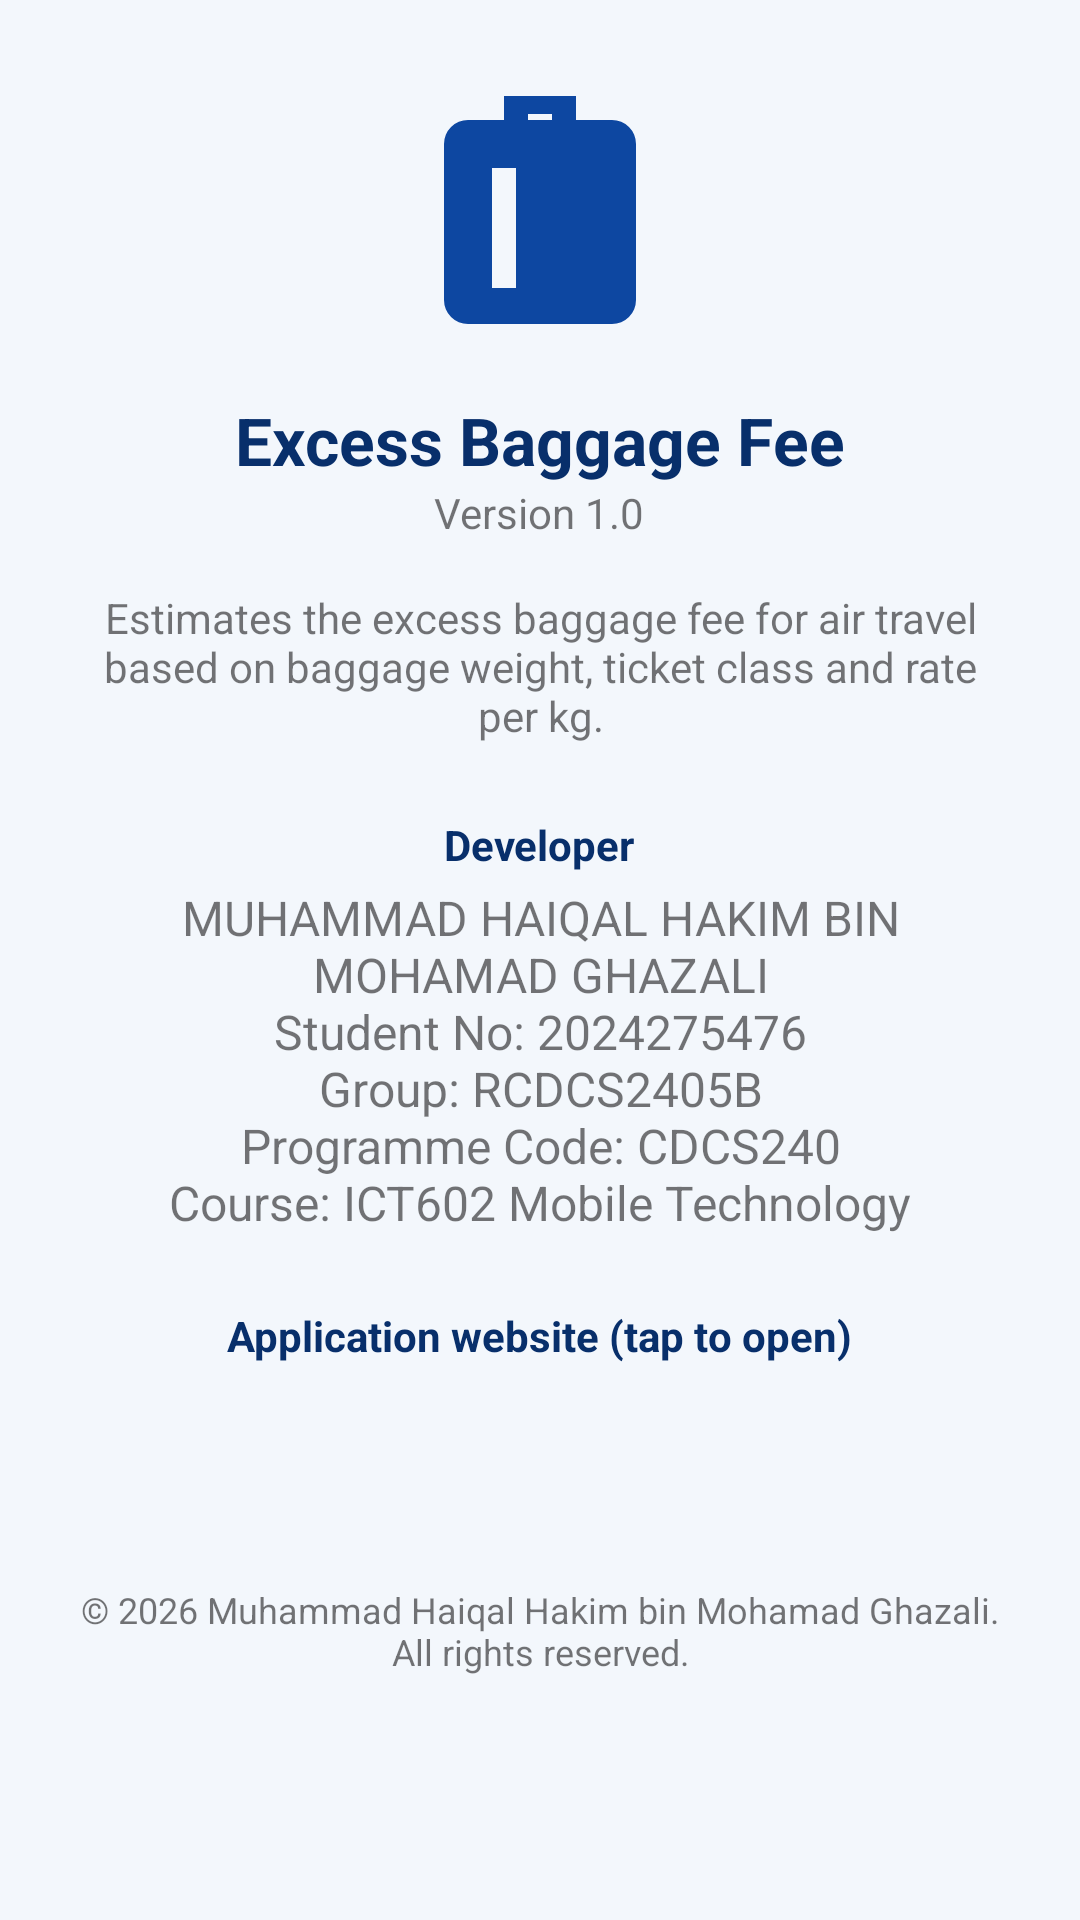

Icon bounding boxes for this 1080 x 1920 phone screenshot, format rect(x1, y1, x2, y2):
luggage: rect(444, 96, 636, 324)
